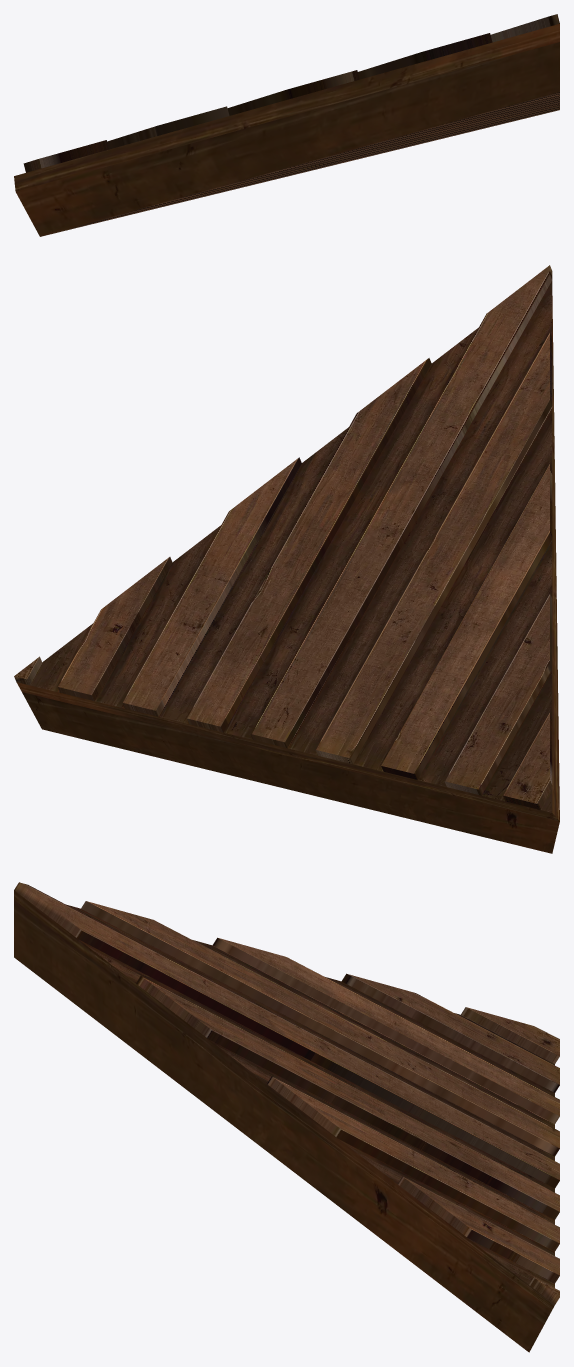
3 views of the same model, one above another, from view 1: azimuth 30°, elevation 25°; view 2: azimuth 150°, elevation 25°; view 3: azimuth 270°, elevation 25° (orthographic).
Visible parts, largest first — view 1: SM_BB_T2_Roof_Triangle_Shallow_Large_Inverted_LOD0; view 2: SM_BB_T2_Roof_Triangle_Shallow_Large_Inverted_LOD0; view 3: SM_BB_T2_Roof_Triangle_Shallow_Large_Inverted_LOD0.
Boxes of the visible parts, x1,y1,x2,y2 form: SM_BB_T2_Roof_Triangle_Shallow_Large_Inverted_LOD0: (14, 14, 559, 236); SM_BB_T2_Roof_Triangle_Shallow_Large_Inverted_LOD0: (14, 265, 559, 853); SM_BB_T2_Roof_Triangle_Shallow_Large_Inverted_LOD0: (14, 882, 559, 1352).
Size of the model in its own units: 3.17 by 1.92 by 2.75.
Materials: 2 (2 with a texture image).
